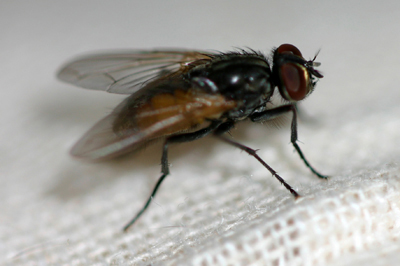fly: (54, 36, 332, 218)
